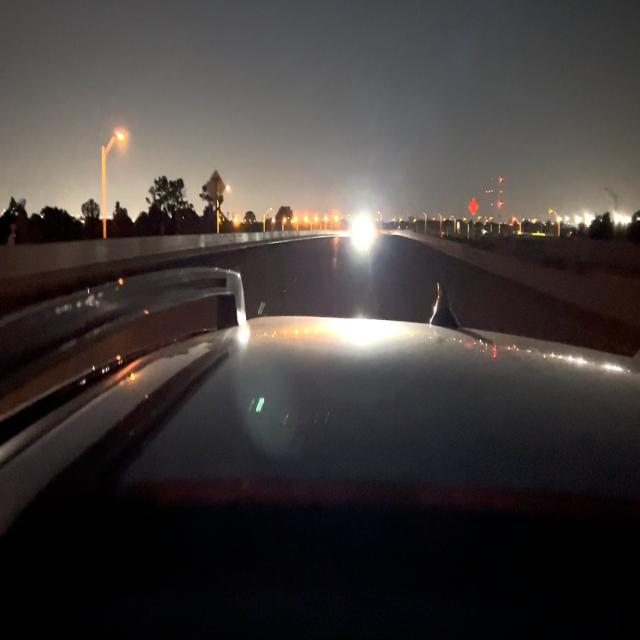back-of-sign: (205, 171, 225, 204)
